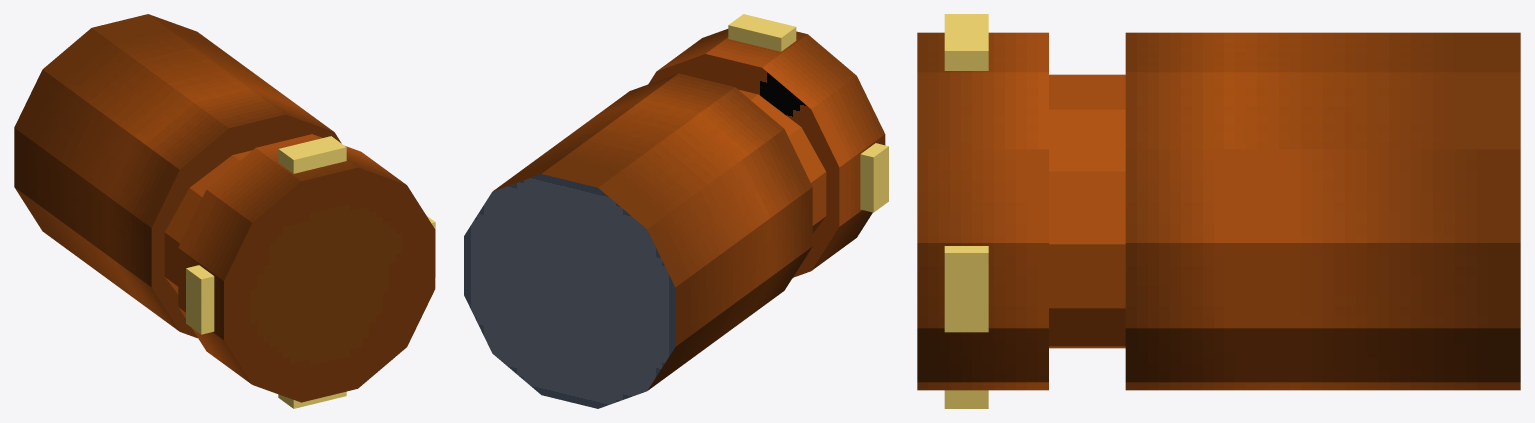
File: spaceshipFuelIdkIts2am.gltf
3 renders of one model, left to right at view 1: azimuth 30°, elevation 25°; view 2: azimuth 150°, elevation 25°; view 3: azimuth 270°, elevation 25°, orthographic. The views are drawn at different scales.
Visible parts, largest first — view 1: cylinder (×3), cube (×2); view 2: cylinder (×3), cube (×2); view 3: cylinder (×3), cube (×2).
Boxes of the visible parts, x1,y1,x2,y2 form: cylinder (×3): (14,14,435,402); cube (×2): (186,136,435,408); cylinder (×3): (464,29,885,408); cube (×2): (728,14,888,278); cylinder (×3): (917,32,1520,390); cube (×2): (944,14,988,408).
Size of the model in its own units: 1.11 by 1.12 by 1.72.
Materials: 1 (1 with a texture image).
